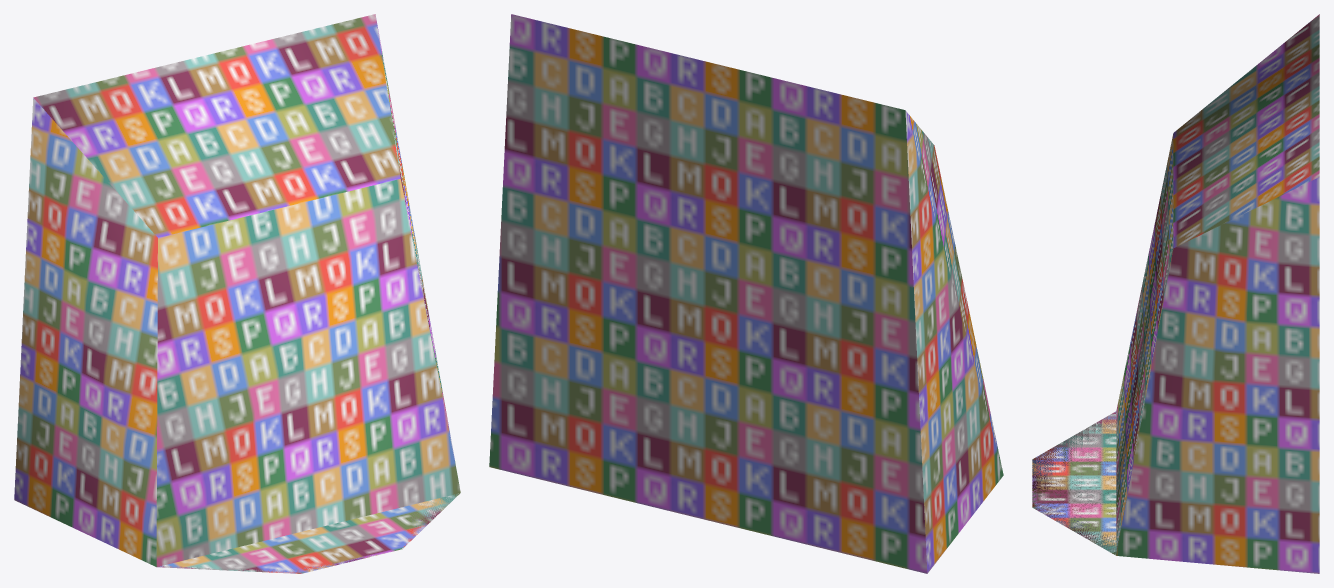
The model's file is TunnelCap.obj.
3 views of the same model, side by side, from view 1: azimuth 30°, elevation 25°; view 2: azimuth 150°, elevation 25°; view 3: azimuth 270°, elevation 25° (orthographic). The views are drawn at different scales.
Visible parts, largest first — view 1: Cube1; view 2: Cube1; view 3: Cube1.
Part boxes in pixels (x1,y1,x2,y2): Cube1: [14, 14, 460, 573]; Cube1: [489, 14, 1003, 573]; Cube1: [1032, 14, 1319, 573].
Size of the model in its own units: 2 by 2 by 1.34.
